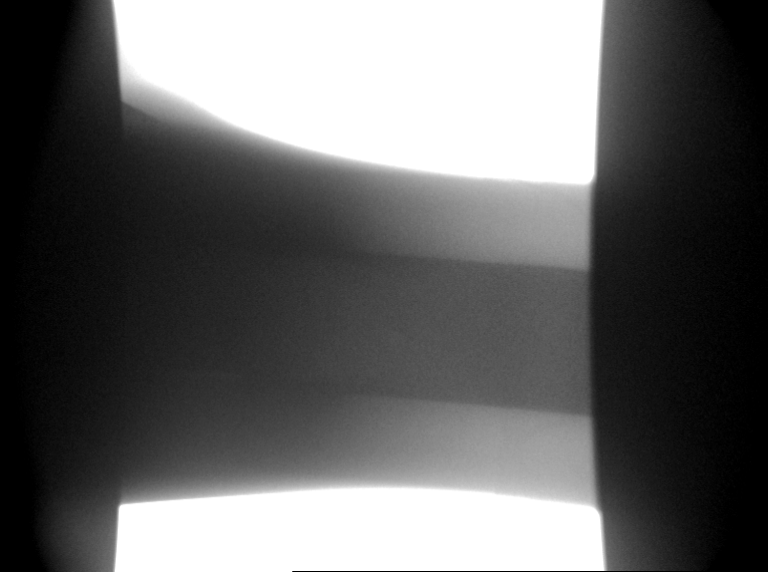defect: (381, 326, 417, 357)
